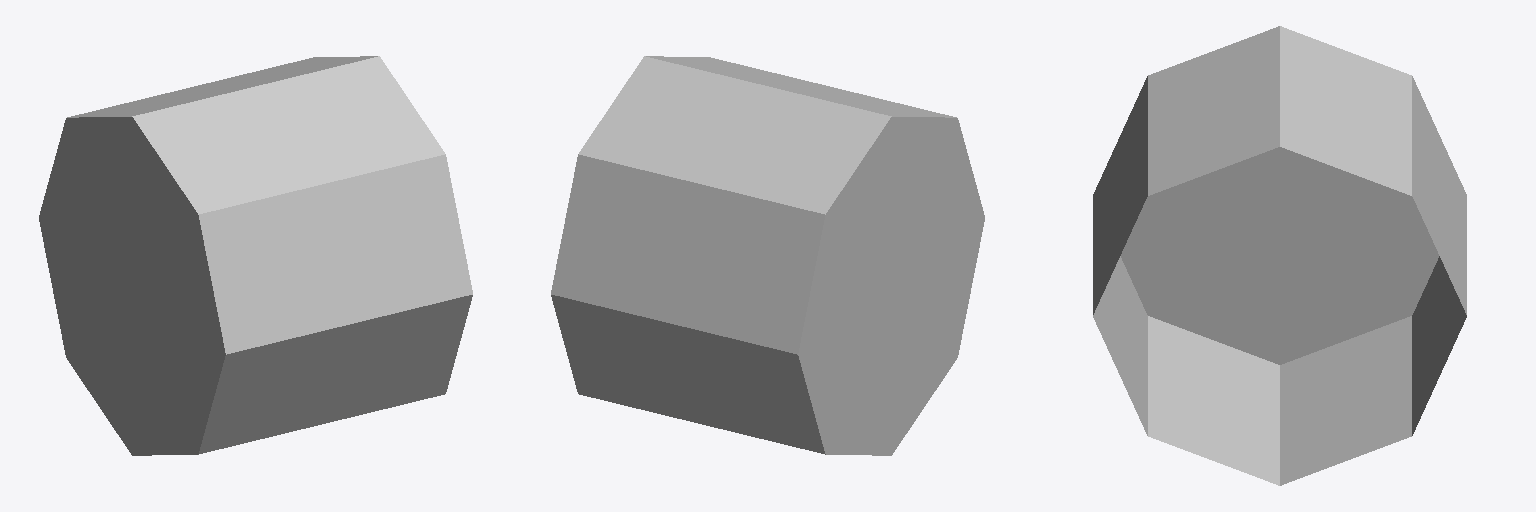
The model's file is WheelRearR.obj.
3 renders of one model, left to right at view 1: azimuth 30°, elevation 25°; view 2: azimuth 150°, elevation 25°; view 3: azimuth 270°, elevation 25°, orthographic.
Visible parts, largest first — view 1: WheelRearR; view 2: WheelRearR; view 3: WheelRearR.
Boxes of the visible parts, box(x1,y1,x2,y2) form: WheelRearR: box(39, 56, 472, 455); WheelRearR: box(551, 56, 984, 455); WheelRearR: box(1093, 26, 1466, 485).
Bounding box in the file's own units: 0.9633 × 1.26 × 1.26.